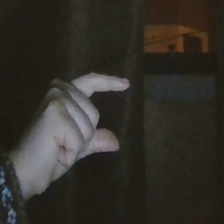G: (21, 68, 138, 198)
